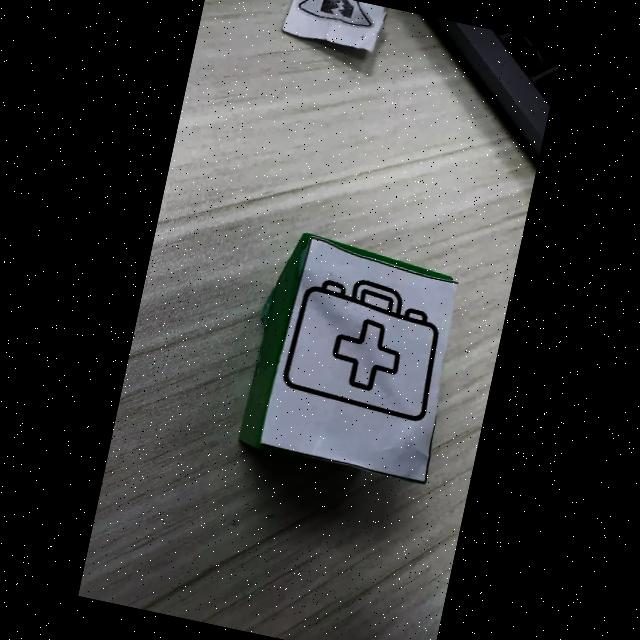Medkit: (283, 279, 438, 421)
